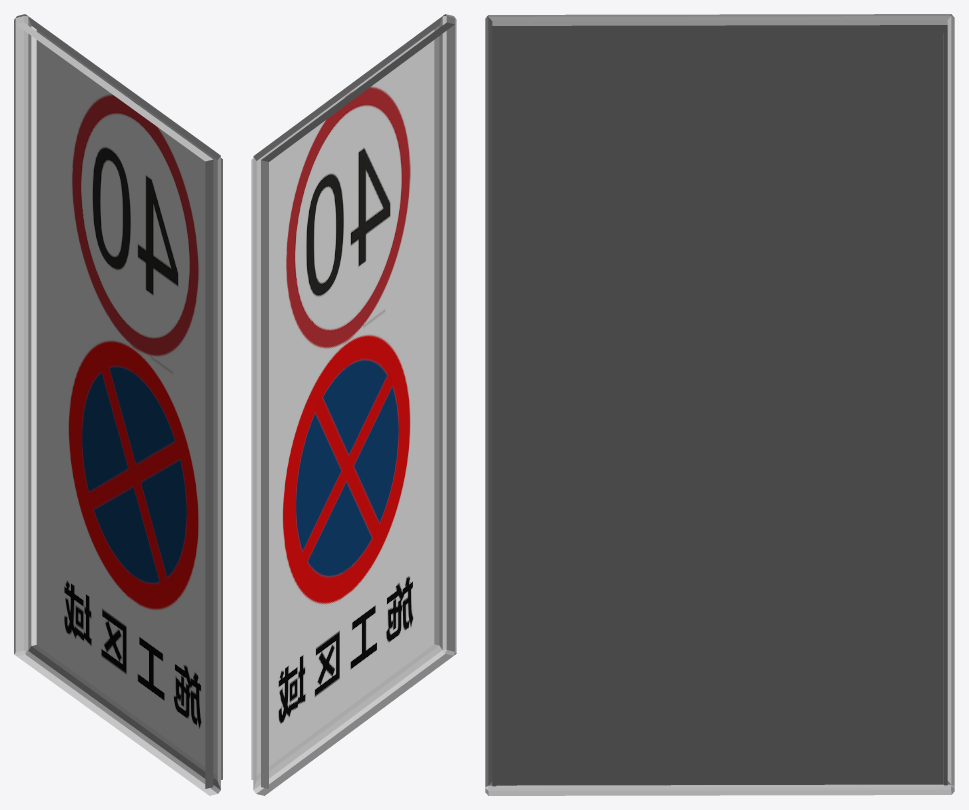
3 renders of one model, left to right at view 1: azimuth 30°, elevation 25°; view 2: azimuth 150°, elevation 25°; view 3: azimuth 270°, elevation 25°, orthographic. The views are drawn at different scales.
Visible parts, largest first — view 1: model15; view 2: model15; view 3: model15.
Part boxes in pixels (x1=…): model15: x1=14, y1=14, x2=222, y2=795; model15: x1=251, y1=14, x2=456, y2=795; model15: x1=485, y1=14, x2=954, y2=795.
Bounding box in the file's own units: 0.0843 × 2.46 × 1.35.
Materials: 2 (1 with a texture image).
